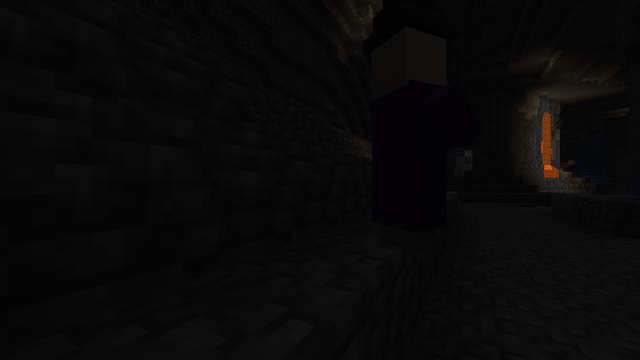sorcieres: (365, 9, 444, 258)
